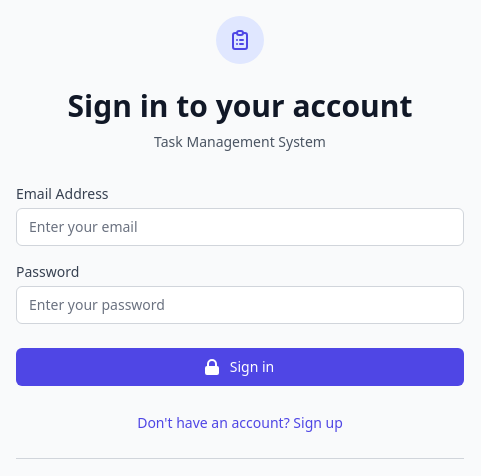
Test: Login › shows loading state during form submission
The image size is (481, 476).
In the field labelled "Email Address": {"x": 240, "y": 227} [16, 208, 464, 246], type "test@example.com"
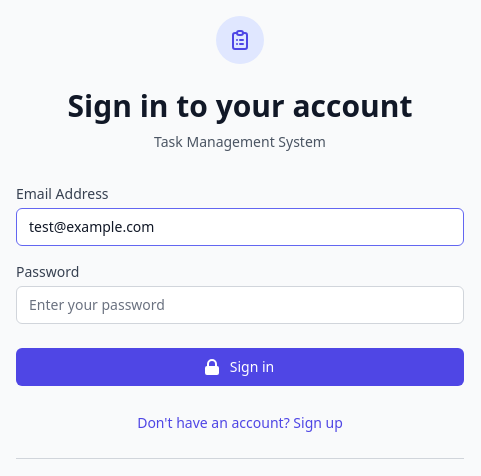
In the password field labelled "Password": {"x": 240, "y": 305} [16, 286, 464, 324], type "password123"
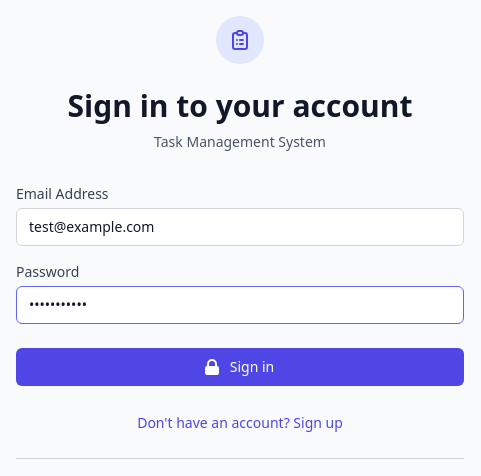
Click the button "Sign in": {"x": 240, "y": 367} [16, 348, 464, 386]
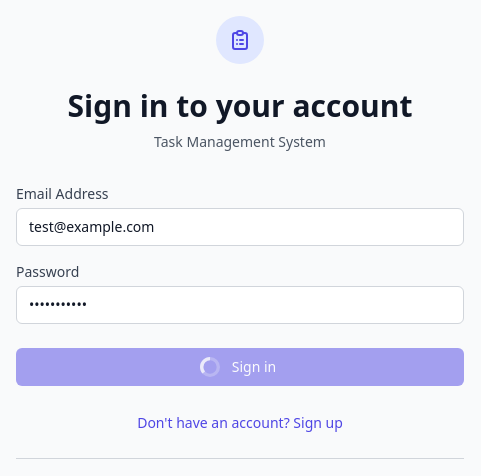
Result: the button "Sign in" is disabled at [16, 348, 464, 386]
